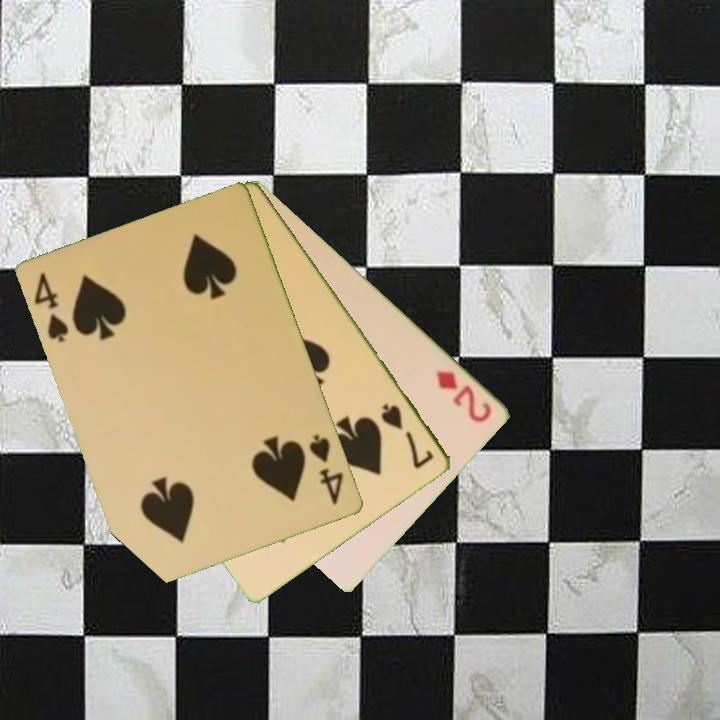2d: (433, 367, 495, 426)
4s: (306, 431, 347, 509), (31, 269, 72, 346)
7s: (378, 400, 437, 472)
